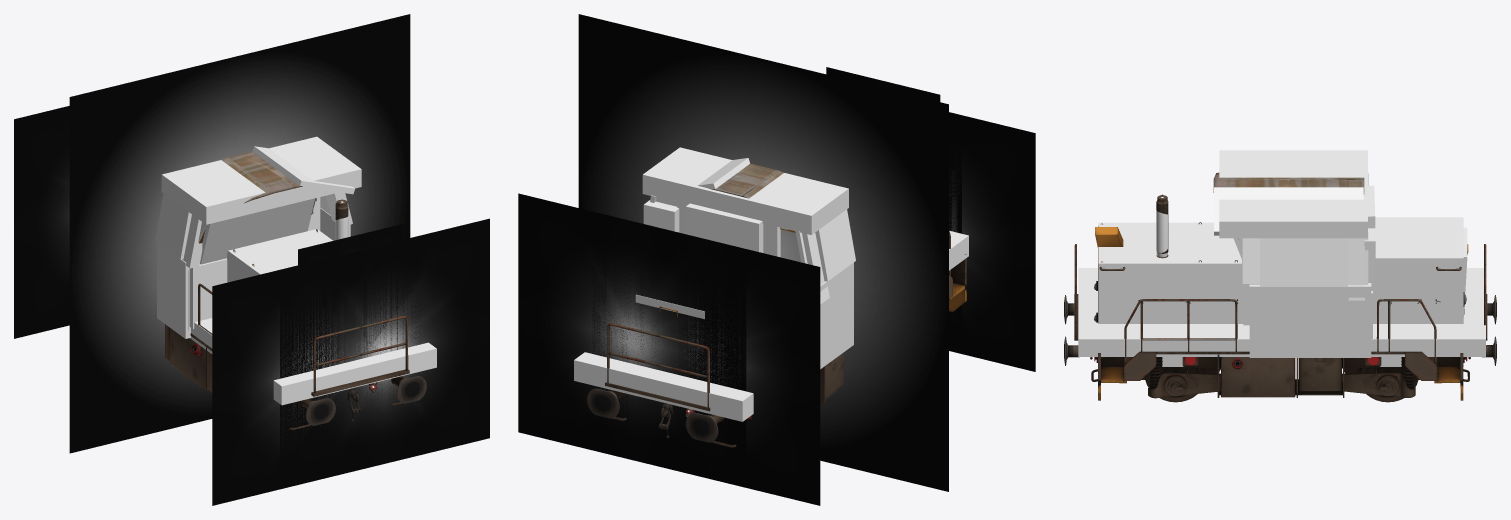
Rendered from LocoDE2 (merge).fbx.
3 renders of one model, left to right at view 1: azimuth 30°, elevation 25°; view 2: azimuth 150°, elevation 25°; view 3: azimuth 270°, elevation 25°, orthographic. The views are drawn at different scales.
Parts seen in each view (by area): view 1: Glare (×4), Quad, Cube (10), ext 621_exterior, Cube (2), Cube (×2), fWindow, Cube (6), Cube (4), rWindow, Cube (12), Buffer_FR (+1 smaller); view 2: Glare (×5), Quad, Cube (10), Cube (2), ext 621_exterior, Cube (6), bWindow, rWindow, blWindow, Buffer_RL, Buffer_RR, Cube (+2 smaller); view 3: Cube (×3), ext 621_exterior, Cube (2), Cube (10), Cube (7), lWindow, [axle] (×2), Cube (16), Cube (13), Capsule (1), blWindow.
Part boxes in pixels (<box>): Glare (×4): <box>14,106,489,505</box>; Quad: <box>69,14,410,453</box>; Cube (10): <box>161,136,361,224</box>; ext 621_exterior: <box>165,151,409,430</box>; Cube (2): <box>190,318,436,405</box>; Cube (×2): <box>227,146,354,282</box>; fWindow: <box>200,198,315,264</box>; Cube (6): <box>157,242,190,338</box>; Cube (4): <box>189,258,227,328</box>; rWindow: <box>155,193,191,259</box>; Cube (12): <box>182,214,202,268</box>; Buffer_FR: <box>306,398,335,425</box>; Glare (×5): <box>518,67,1035,505</box>; Quad: <box>578,14,948,491</box>; Cube (10): <box>642,147,848,234</box>; Cube (2): <box>574,231,968,421</box>; ext 621_exterior: <box>605,163,966,447</box>; Cube (6): <box>820,262,853,369</box>; bWindow: <box>686,203,763,252</box>; rWindow: <box>815,209,855,281</box>; blWindow: <box>643,200,679,232</box>; Buffer_RL: <box>587,388,619,418</box>; Buffer_RR: <box>685,412,718,442</box>; Cube: <box>697,158,749,188</box>; Cube (×3): <box>1098,187,1463,366</box>; ext 621_exterior: <box>1074,172,1487,400</box>; Cube (2): <box>1078,268,1485,356</box>; Cube (10): <box>1219,150,1367,238</box>; Cube (7): <box>1249,283,1371,357</box>; lWindow: <box>1260,238,1347,286</box>; [axle] (×2): <box>1145,367,1418,402</box>; Cube (16): <box>1348,238,1364,300</box>; Cube (13): <box>1242,238,1259,283</box>; Capsule (1): <box>1156,196,1167,257</box>; blWindow: <box>1364,228,1375,292</box>.
Size of what is drawn, in the model's own units: 6.49 by 6.49 by 7.59.
